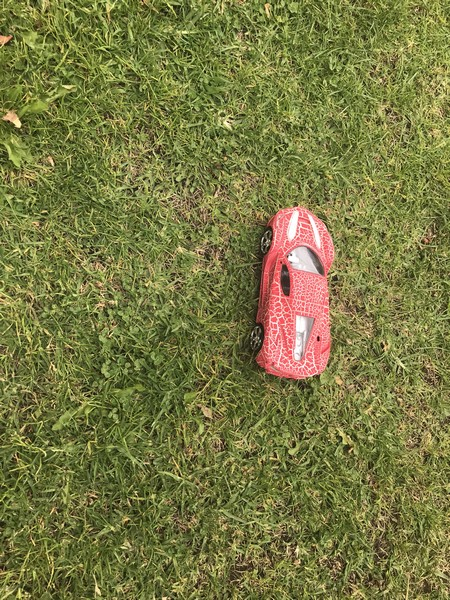RC: (247, 206, 336, 382)
